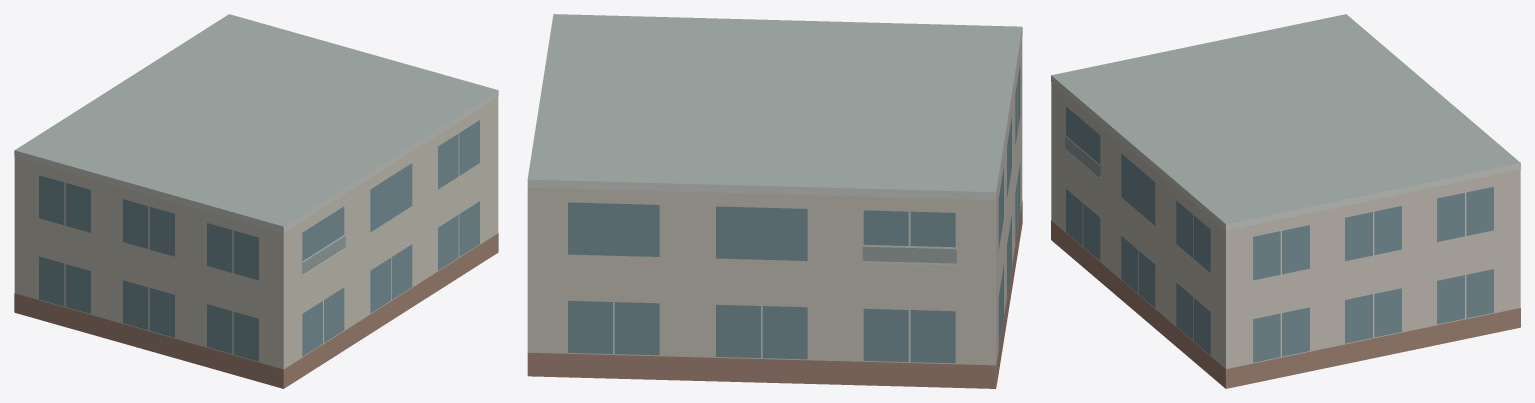
The model's file is survey-upis-32835546.glb.
3 renders of one model, left to right at view 1: azimuth 30°, elevation 25°; view 2: azimuth 150°, elevation 25°; view 3: azimuth 270°, elevation 25°, orthographic. The views are drawn at different scales.
Visible parts, largest first — view 1: survey-upis-32835546.tmp; view 2: survey-upis-32835546.tmp; view 3: survey-upis-32835546.tmp.
Part boxes in pixels (x1=…): survey-upis-32835546.tmp: x1=14, y1=14, x2=498, y2=388; survey-upis-32835546.tmp: x1=527, y1=14, x2=1022, y2=388; survey-upis-32835546.tmp: x1=1051, y1=14, x2=1520, y2=388.
Size of the model in its own units: 16.71 by 6.1 by 15.78.
